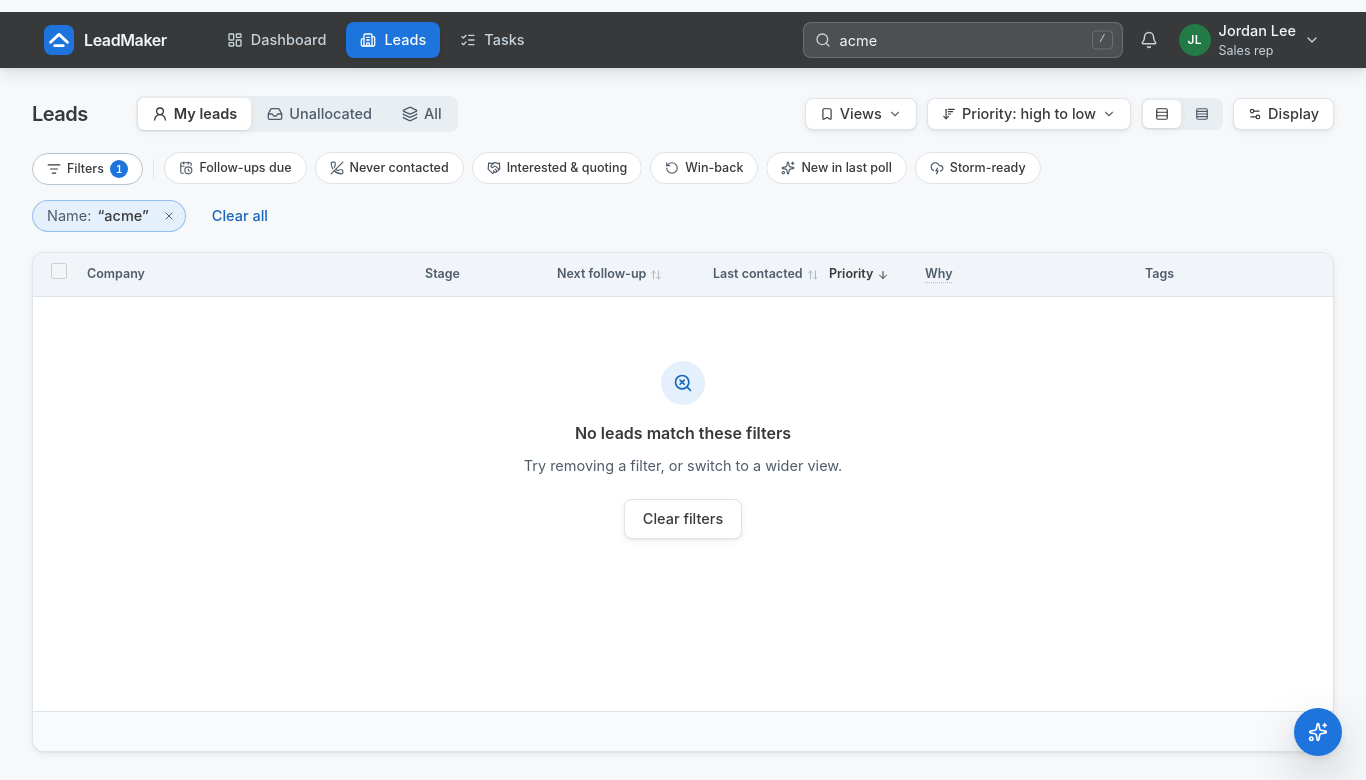
Switch user › lists the demo team with roles and switches, saying who you are now
Click the button with aria-label "Account menu for Jordan Lee, Sales rep": x=1250, y=40 [1174,16,1326,64]
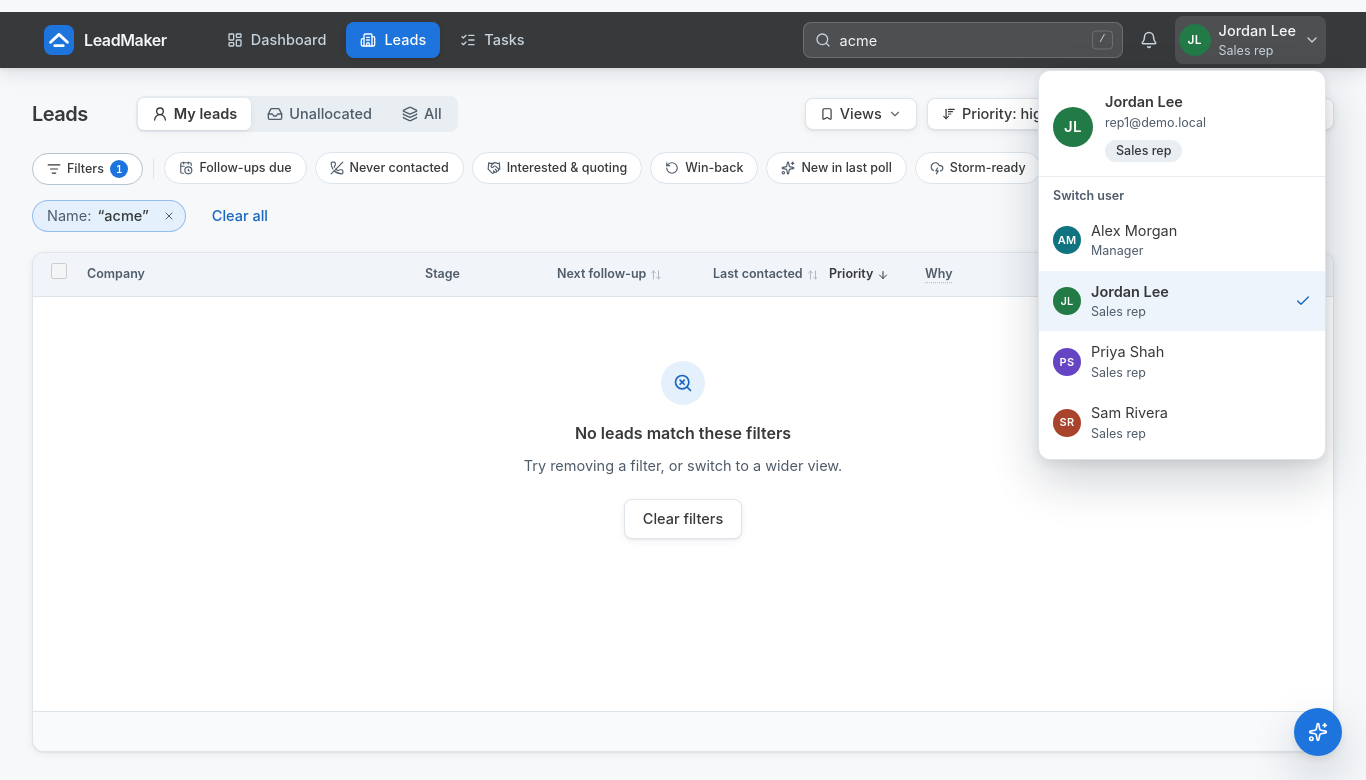
Click the menu item "AM Alex Morgan Manager": x=1134, y=230 [1039,210,1325,271]
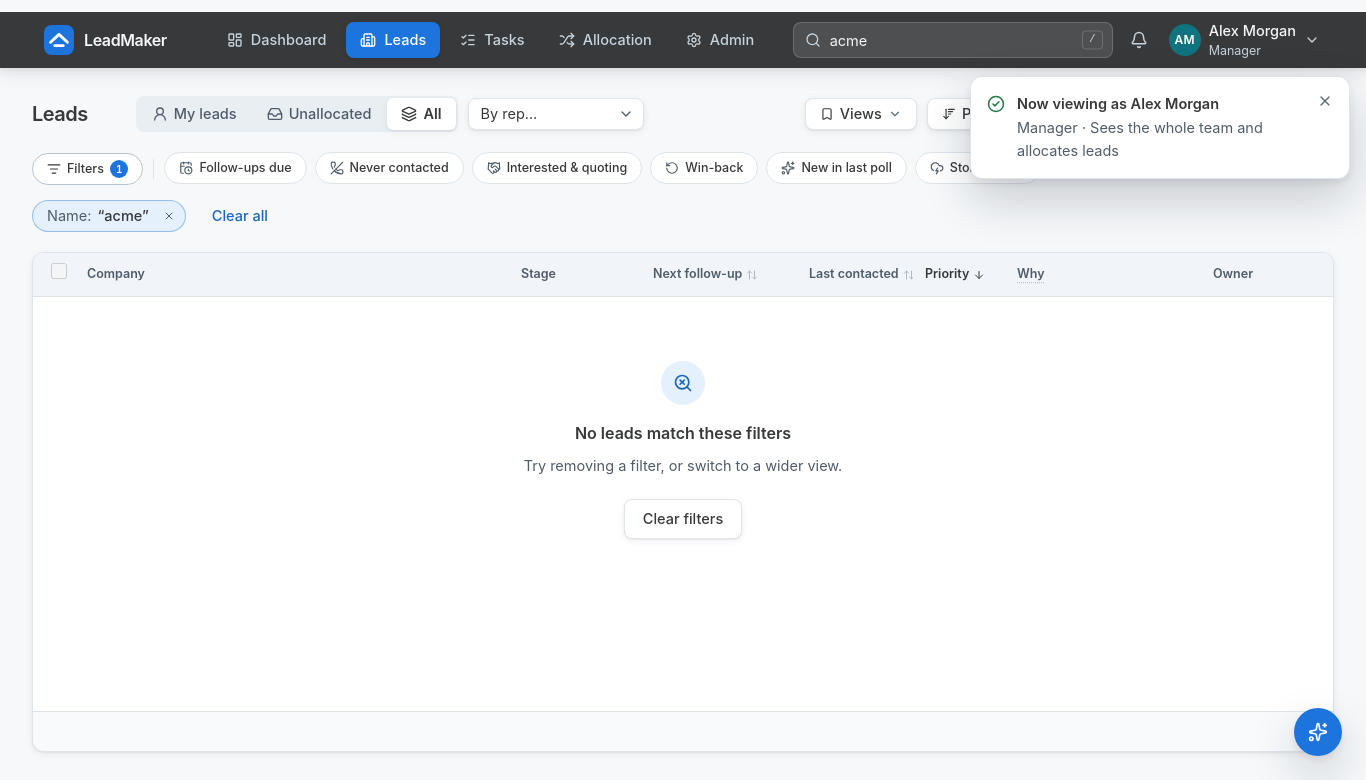
Expected: the text "Alex Morgan" is shown, [1209,20,1296,42]
Expected: the text "Now viewing as Alex Morgan" is shown, [1017,95,1219,112]
Expected: the link "Allocation" is shown, [559,31,652,48]
